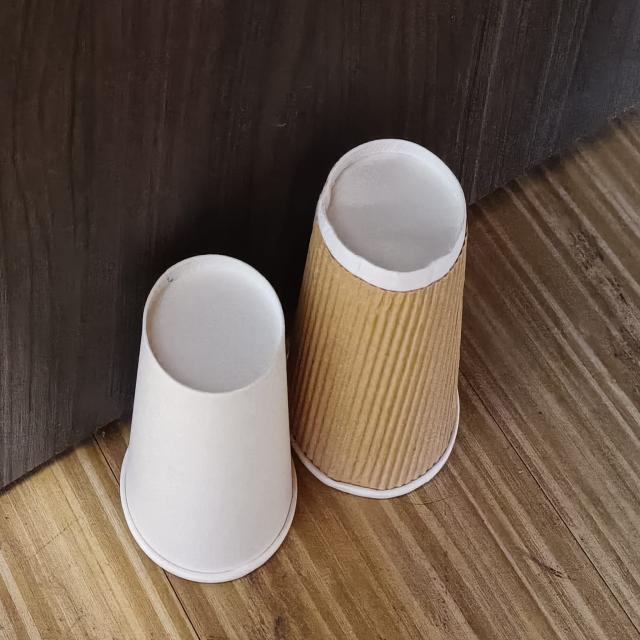Browncup: (288, 139, 467, 498)
Whitecup: (120, 255, 297, 582)
